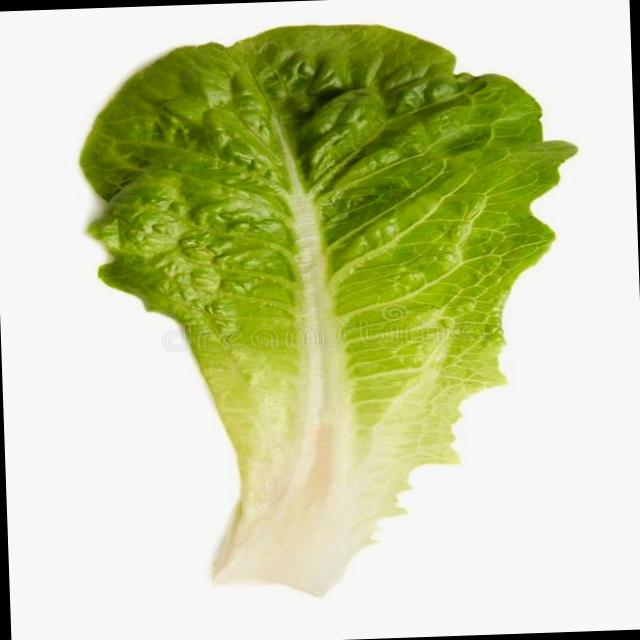Lettuce-Ready-to-Harvest: (80, 25, 575, 593)
